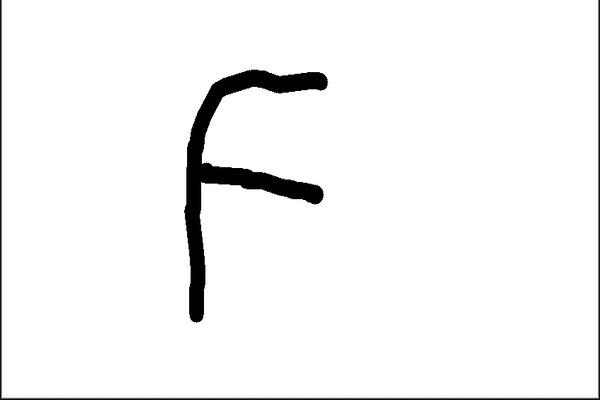F: (180, 64, 331, 326)
